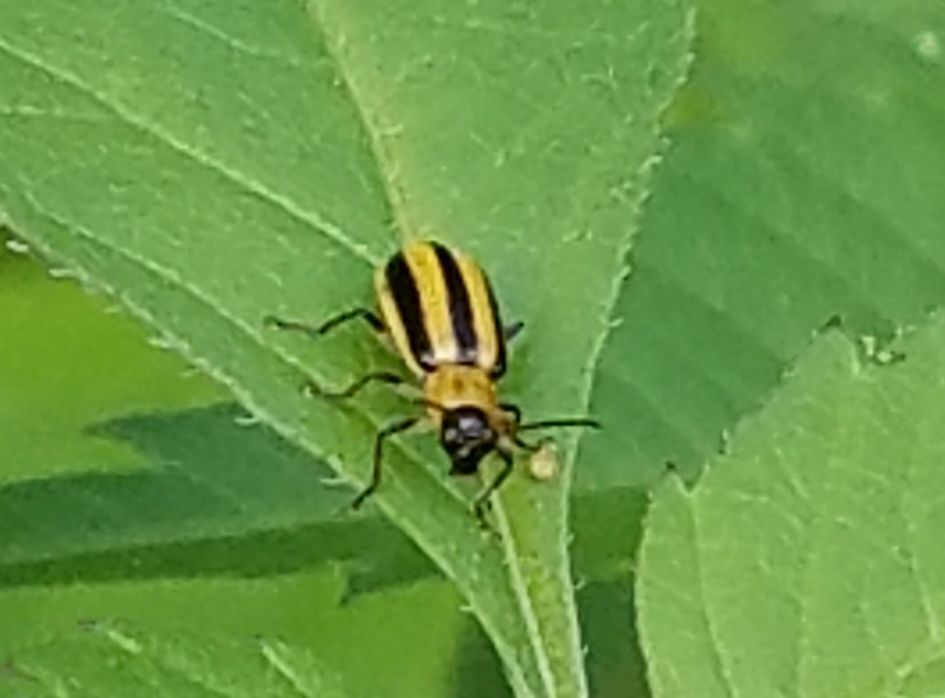potato_beetle: (239, 161, 651, 575)
